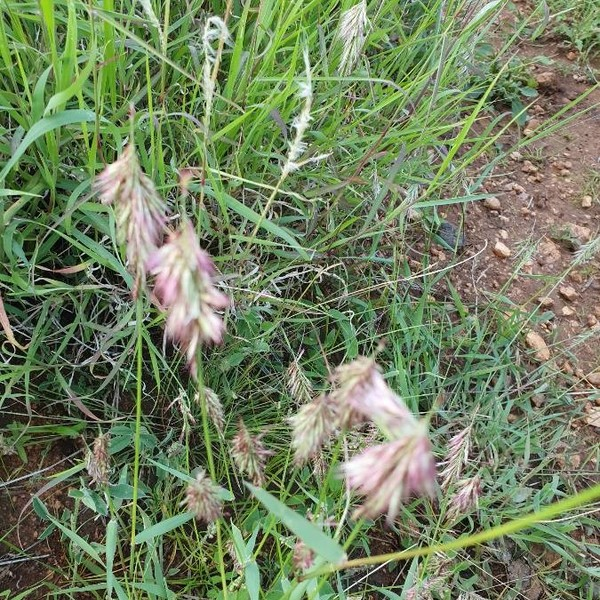obstacle: (94, 92, 489, 530)
